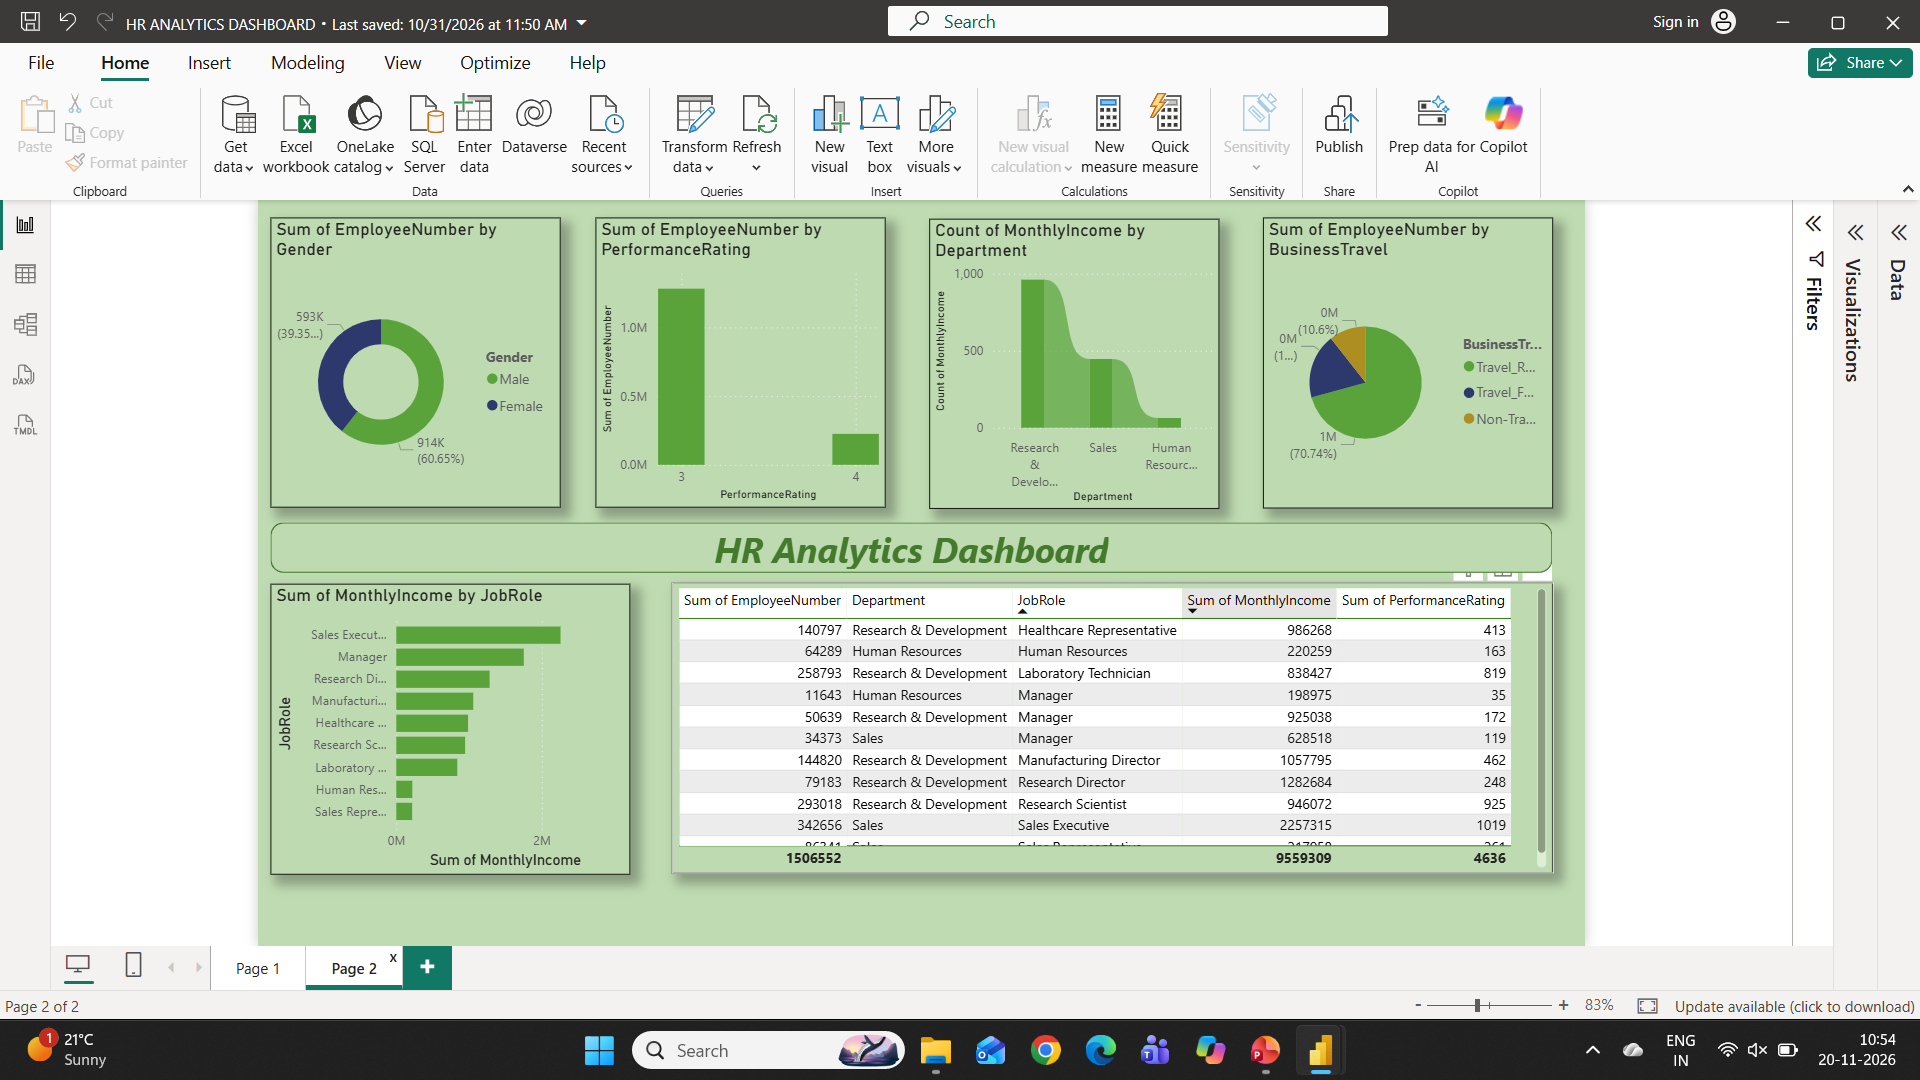

The page's visual inventory and layout, read from the dashboard file:
{"tool":"powerbi","page":{"name":"Page 2","canvas":[1280,720],"ordinal":1},"visuals":[{"type":"donutChart","fields":{"Y":["Sum(WA_Fn-UseC_-HR-Employee-Attrition.EmployeeNumber)"],"Category":["WA_Fn-UseC_-HR-Employee-Attrition.Gender"]},"box":[12.1,16.9,279.9,279.9],"z":0},{"type":"clusteredBarChart","fields":{"Y":["Sum(WA_Fn-UseC_-HR-Employee-Attrition.MonthlyIncome)"],"Category":["WA_Fn-UseC_-HR-Employee-Attrition.JobRole"]},"box":[12.1,370.4,347.5,281.1],"z":1},{"type":"clusteredColumnChart","fields":{"Category":["WA_Fn-UseC_-HR-Employee-Attrition.PerformanceRating"],"Y":["Sum(WA_Fn-UseC_-HR-Employee-Attrition.EmployeeNumber)"]},"box":[325.7,16.9,279.9,279.9],"z":2},{"type":"pieChart","fields":{"Category":["WA_Fn-UseC_-HR-Employee-Attrition.BusinessTravel"],"Y":["Sum(WA_Fn-UseC_-HR-Employee-Attrition.EmployeeNumber)"]},"box":[970,16.9,279.9,281.1],"z":3},{"type":"ribbonChart","fields":{"Category":["WA_Fn-UseC_-HR-Employee-Attrition.Department"],"Y":["CountNonNull(WA_Fn-UseC_-HR-Employee-Attrition.MonthlyIncome)"]},"box":[647.9,18.1,279.9,279.9],"z":4},{"type":"tableEx","fields":{"Values":["Sum(WA_Fn-UseC_-HR-Employee-Attrition.EmployeeNumber)","WA_Fn-UseC_-HR-Employee-Attrition.Department","WA_Fn-UseC_-HR-Employee-Attrition.JobRole","Sum(WA_Fn-UseC_-HR-Employee-Attrition.MonthlyIncome)","Sum(WA_Fn-UseC_-HR-Employee-Attrition.PerformanceRating)"]},"box":[399.3,369.2,850.5,281.1],"z":5},{"type":"shape","box":[12.4,311.3,1237.1,48.5],"z":10}]}

Visuals, with their boxes on the page's 1280x720 design canvas (x1, y1, x2, y2). These are canvas units, not pixel positions in the 1920x1080 screenshot, which may show the page scaled, cropped or inside an application window:
donutChart - Sum(WA_Fn-UseC_-HR-Employee-Attrition.EmployeeNumber) x WA_Fn-UseC_-HR-Employee-Attrition.Gender: Rect(12, 17, 292, 297)
clusteredBarChart - Sum(WA_Fn-UseC_-HR-Employee-Attrition.MonthlyIncome) x WA_Fn-UseC_-HR-Employee-Attrition.JobRole: Rect(12, 370, 360, 652)
clusteredColumnChart - WA_Fn-UseC_-HR-Employee-Attrition.PerformanceRating x Sum(WA_Fn-UseC_-HR-Employee-Attrition.EmployeeNumber): Rect(326, 17, 606, 297)
pieChart - WA_Fn-UseC_-HR-Employee-Attrition.BusinessTravel x Sum(WA_Fn-UseC_-HR-Employee-Attrition.EmployeeNumber): Rect(970, 17, 1250, 298)
ribbonChart - WA_Fn-UseC_-HR-Employee-Attrition.Department x CountNonNull(WA_Fn-UseC_-HR-Employee-Attrition.MonthlyIncome): Rect(648, 18, 928, 298)
tableEx - Sum(WA_Fn-UseC_-HR-Employee-Attrition.EmployeeNumber) x WA_Fn-UseC_-HR-Employee-Attrition.Department: Rect(399, 369, 1250, 650)
shape: Rect(12, 311, 1250, 360)
